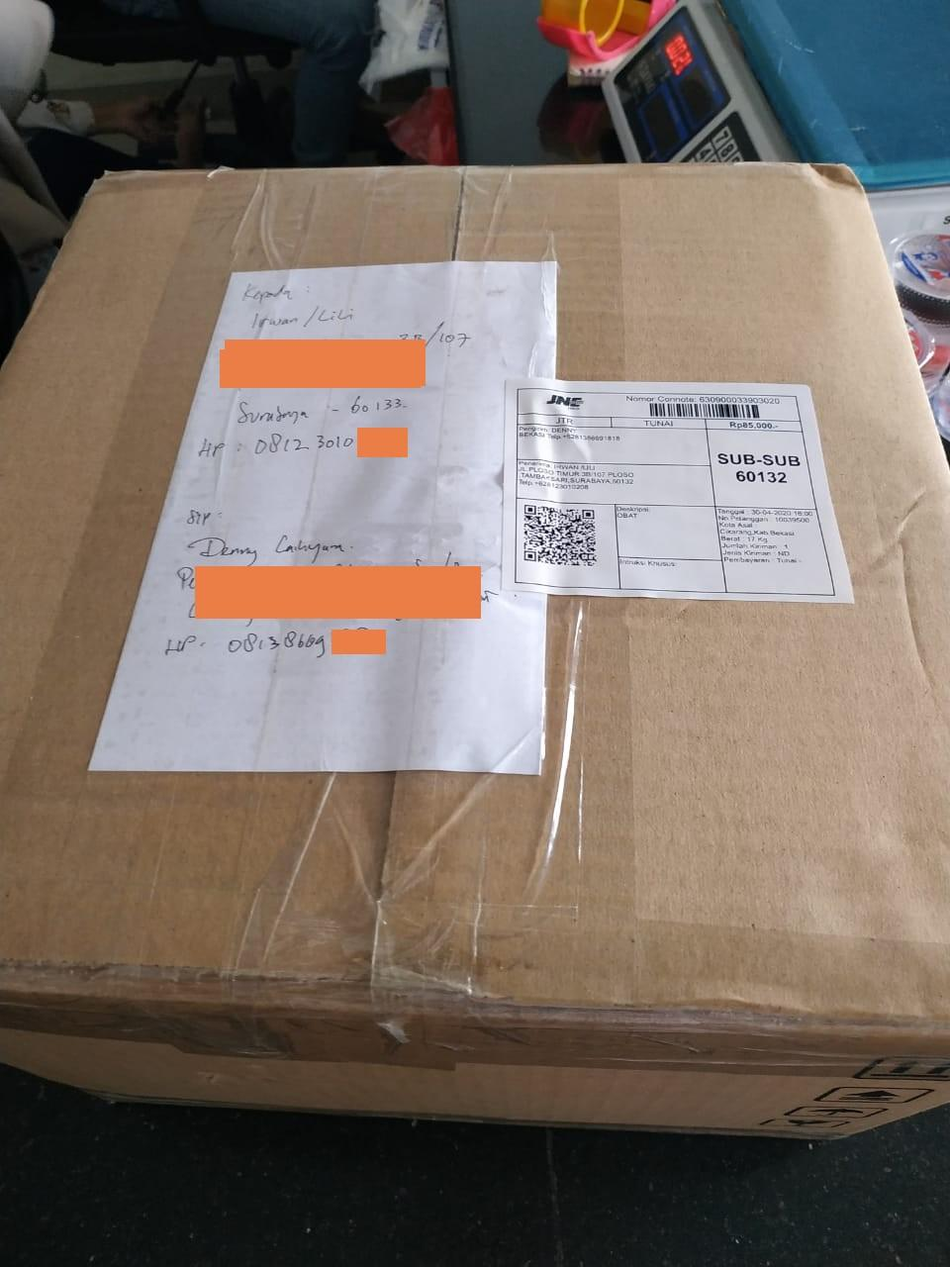undamaged: (0, 137, 948, 1187)
